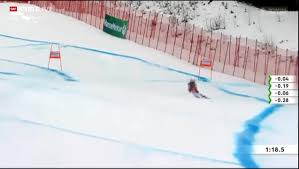skier: (178, 76, 214, 102)
